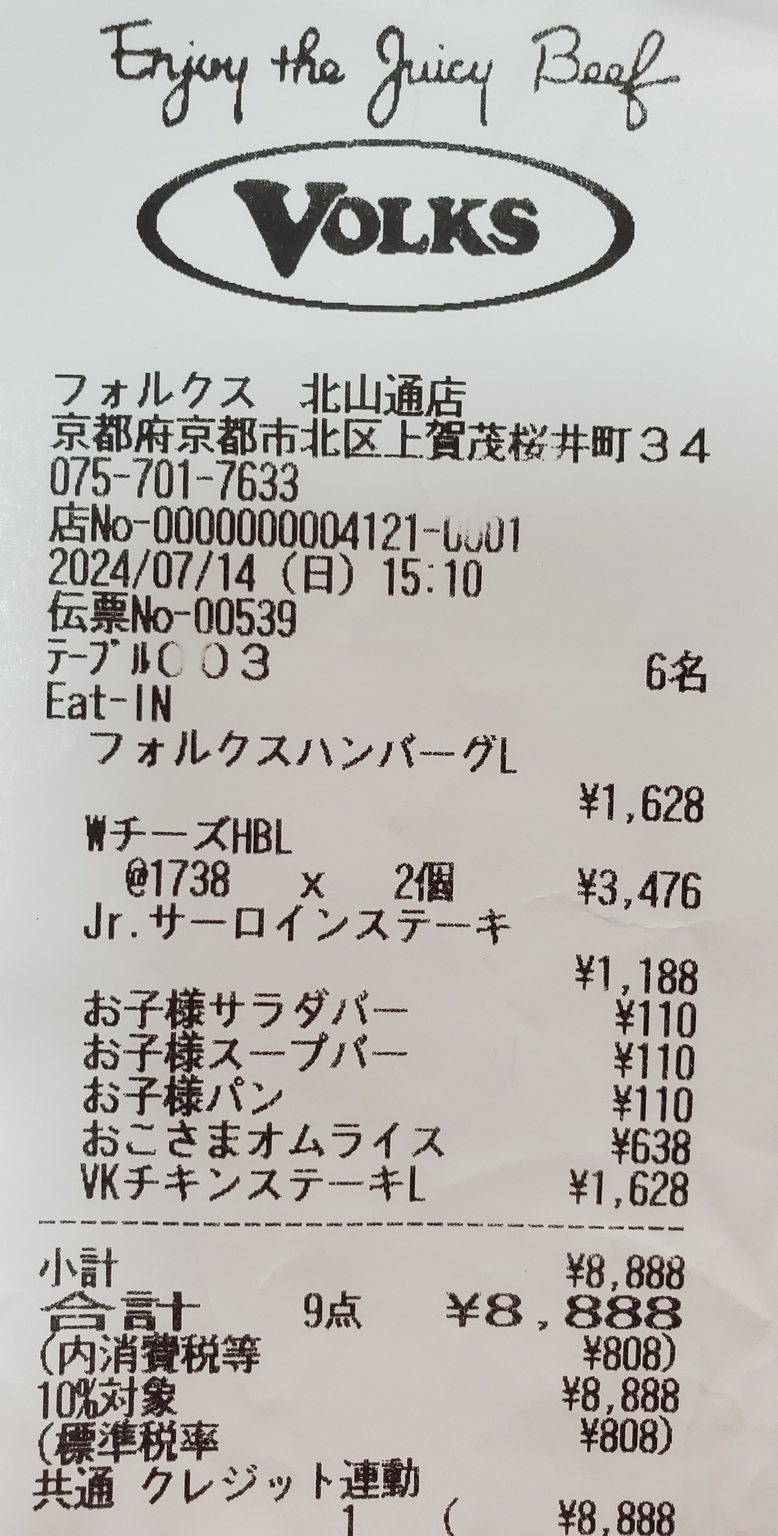Date: (44, 547, 276, 597)
Shopname: (120, 127, 669, 338)
Telnum: (44, 453, 310, 508)
Totalpay: (37, 1280, 722, 1339)
